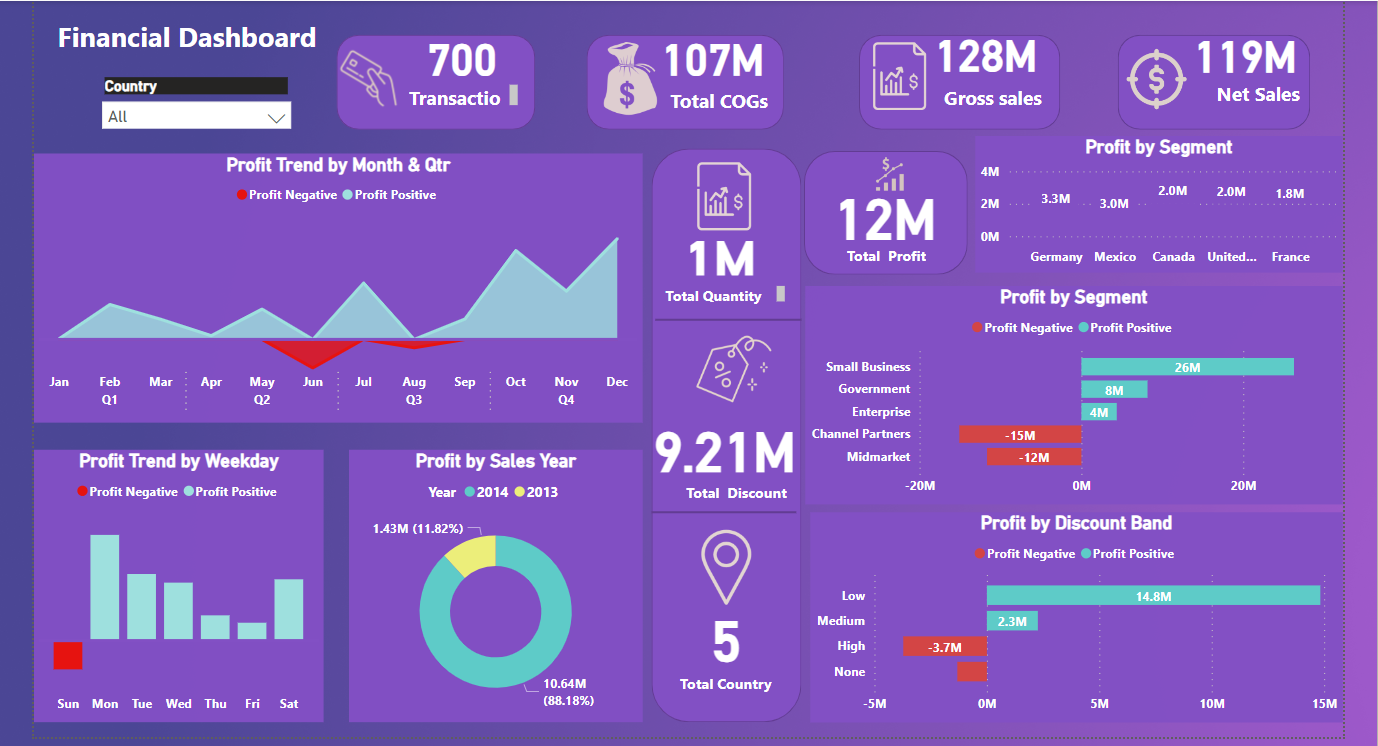

What the dashboard file says about the page in this screenshot:
{"tool":"powerbi","page":{"name":"Page 1","canvas":[1280,720],"ordinal":0},"visuals":[{"type":"shape","box":[295.8,33,194.4,92.9],"z":0},{"type":"shape","box":[540.3,33,193.1,92.9],"z":1000},{"type":"shape","box":[806.8,33,196.8,92.9],"z":2000},{"type":"shape","box":[1059.8,33,188.3,92.9],"z":3000},{"type":"card","fields":{"Values":["All Measures.# Transaction"]},"box":[361.8,13.4,113.7,79.5],"z":4000},{"type":"card","fields":{"Values":["All Measures.COGS"]},"box":[607.5,18.3,112.5,69.7],"z":5000},{"type":"card","fields":{"Values":["All Measures.Gross sales"]},"box":[875.2,11,111.2,77],"z":6000},{"type":"card","fields":{"Values":["All Measures.Net sales"]},"box":[1121,15.9,127.1,69.7],"z":7000},{"type":"image","box":[540.3,33,85.6,85.6],"z":8000},{"type":"image","box":[292.2,33,69.7,85.6],"z":9000},{"type":"image","box":[806.8,33,78.2,80.7],"z":10000},{"type":"image","box":[1059.8,39.1,75.8,74.6],"z":11000},{"type":"textbox","box":[361.8,77,116.1,41.6],"z":12000},{"type":"textbox","box":[617.3,79.5,133.2,41.6],"z":13000},{"type":"textbox","box":[885,77,118.6,37.9],"z":14000},{"type":"textbox","box":[1151.5,73.3,128.4,41.6],"z":15000},{"type":"areaChart","title":"Profit Trend  by Month & Qtr","fields":{"Category":["Calender.Qtr","Calender.Month"],"Y":["All Measures.Profit Negative","All Measures.Profit Positive"]},"box":[0,149.1,595.3,262.8],"z":16000},{"type":"columnChart","title":"Profit Trend  by Weekday","fields":{"Category":["Calender.Weekday"],"Y":["All Measures.Profit Negative","All Measures.Profit Positive"]},"box":[0,438.8,283.6,266.5],"z":17000},{"type":"donutChart","title":"Profit by Sales Year","fields":{"Category":["Calender.Year"],"Y":["All Measures.Total Profit"]},"box":[308,438.8,287.3,266.5],"z":18000},{"type":"shape","box":[603.9,144.2,146.7,561.1],"z":19000},{"type":"shape","box":[607.5,304.4,143,14.7],"z":20000},{"type":"shape","box":[603.9,492.6,141.8,14.7],"z":21000},{"type":"textbox","box":[601.4,273.8,138.1,30.6],"z":22000},{"type":"textbox","box":[607.5,652.8,138.1,52.6],"z":23000},{"type":"textbox","box":[612.4,465.7,149.1,30.6],"z":24000},{"type":"card","fields":{"Values":["Sum(financials.Units Sold)"]},"box":[605.1,221.3,132,52.6],"z":25000},{"type":"card","fields":{"Values":["All Measures.Total discount"]},"box":[597.8,403.4,155.2,62.3],"z":26000},{"type":"card","fields":{"Values":["Count(financials.Country)"]},"box":[599,585.5,155.2,67.2],"z":27000},{"type":"image","box":[612.4,150.4,124.7,81.9],"z":28000},{"type":"image","box":[634.4,319,99,81.9],"z":29000},{"type":"image","box":[645.4,506.1,62.3,96.6],"z":30000},{"type":"shape","box":[753,146.7,160.1,121],"z":31000},{"type":"textbox","box":[759.1,234.7,149.1,30.6],"z":32000},{"type":"card","fields":{"Values":["All Measures.Total Profit"]},"box":[753,173.6,158.9,67.2],"z":33000},{"type":"image","box":[788.5,146.7,96.6,45.2],"z":34000},{"type":"barChart","title":"Profit by Segment","fields":{"Category":["financials.Segment"],"Y":["All Measures.Profit Negative","All Measures.Profit Positive"]},"box":[754.2,278.7,525.6,213.9],"z":35000},{"type":"barChart","title":"Profit by Discount Band","fields":{"Y":["All Measures.Profit Negative","All Measures.Profit Positive"],"Category":["financials.Discount Band"]},"box":[759.1,500,520.7,205.4],"z":35001},{"type":"columnChart","title":"Profit by Segment","fields":{"Category":["financials.Country"],"Y":["All Measures.Total Profit"]},"box":[920.5,132,359.4,133.2],"z":35002},{"type":"textbox","box":[0,11,299.5,73.3],"z":35003},{"type":"slicer","fields":{"Values":["financials.Country"]},"box":[56.2,69.7,205.4,55],"z":35004}]}

Visuals, with their boxes on the page's 1280x720 design canvas (x1, y1, x2, y2). These are canvas units, not pixel positions in the 1378x746 screenshot, which may show the page scaled, cropped or inside an application window:
shape: l=296, t=33, r=490, b=126
shape: l=540, t=33, r=733, b=126
shape: l=807, t=33, r=1004, b=126
shape: l=1060, t=33, r=1248, b=126
card - All Measures.# Transaction: l=362, t=13, r=476, b=93
card - All Measures.COGS: l=608, t=18, r=720, b=88
card - All Measures.Gross sales: l=875, t=11, r=986, b=88
card - All Measures.Net sales: l=1121, t=16, r=1248, b=86
image: l=540, t=33, r=626, b=119
image: l=292, t=33, r=362, b=119
image: l=807, t=33, r=885, b=114
image: l=1060, t=39, r=1136, b=114
textbox: l=362, t=77, r=478, b=119
textbox: l=617, t=80, r=750, b=121
textbox: l=885, t=77, r=1004, b=115
textbox: l=1152, t=73, r=1280, b=115
"Profit Trend  by Month & Qtr" areaChart: l=0, t=149, r=595, b=412
"Profit Trend  by Weekday" columnChart: l=0, t=439, r=284, b=705
"Profit by Sales Year" donutChart: l=308, t=439, r=595, b=705
shape: l=604, t=144, r=751, b=705
shape: l=608, t=304, r=750, b=319
shape: l=604, t=493, r=746, b=507
textbox: l=601, t=274, r=740, b=304
textbox: l=608, t=653, r=746, b=705
textbox: l=612, t=466, r=762, b=496
card - Sum(financials.Units Sold): l=605, t=221, r=737, b=274
card - All Measures.Total discount: l=598, t=403, r=753, b=466
card - Count(financials.Country): l=599, t=586, r=754, b=653
image: l=612, t=150, r=737, b=232
image: l=634, t=319, r=733, b=401
image: l=645, t=506, r=708, b=603
shape: l=753, t=147, r=913, b=268
textbox: l=759, t=235, r=908, b=265
card - All Measures.Total Profit: l=753, t=174, r=912, b=241
image: l=788, t=147, r=885, b=192
"Profit by Segment" barChart: l=754, t=279, r=1280, b=493
"Profit by Discount Band" barChart: l=759, t=500, r=1280, b=705
"Profit by Segment" columnChart: l=920, t=132, r=1280, b=265
textbox: l=0, t=11, r=300, b=84
slicer - financials.Country: l=56, t=70, r=262, b=125
